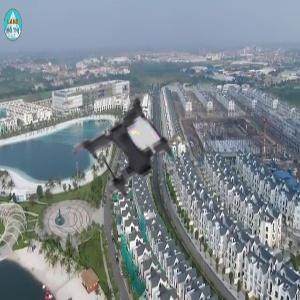drone: (66, 87, 195, 216)
